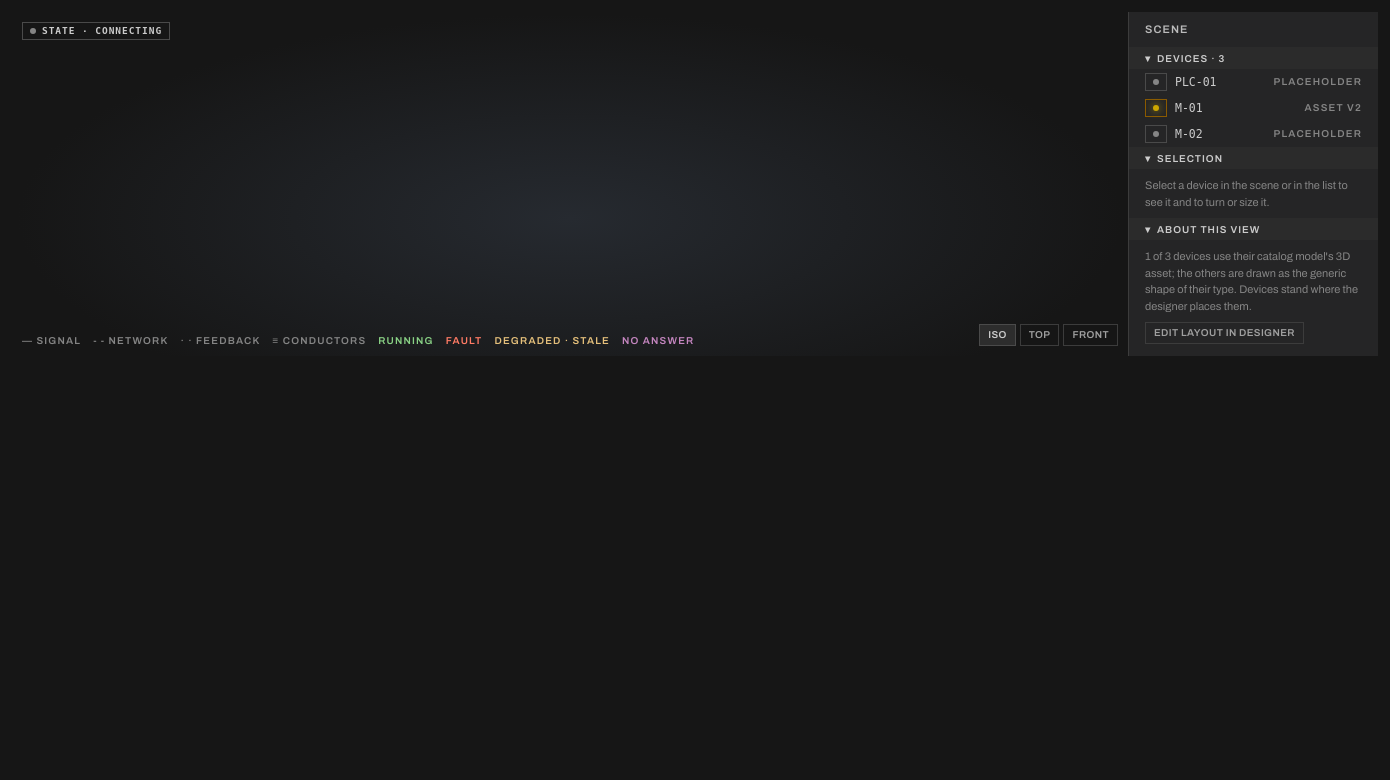
it: SceneView › lists the stored conductors of a selected device, and names a relationship that has none
Click the button "M-01 asset v2" at (1254, 108), box left=1129, top=95, right=1378, bottom=121
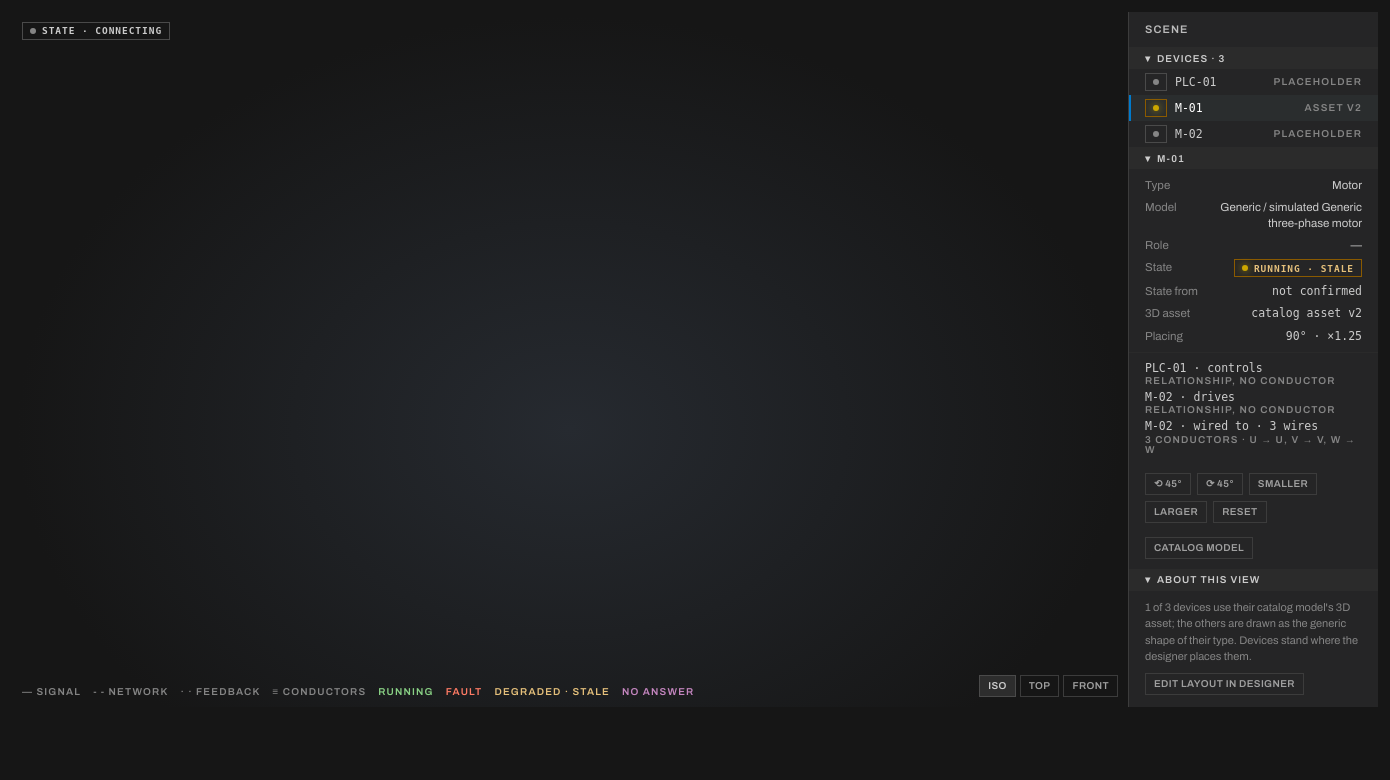
Result: the text "M-02 · wired to · 3 wires" is shown at left=1145, top=419, right=1318, bottom=433
Result: the text "3 conductors · U → U, V → V, W → W" is shown at left=1145, top=435, right=1362, bottom=455
Result: the text "M-02 · drives" is shown at left=1145, top=390, right=1235, bottom=404
